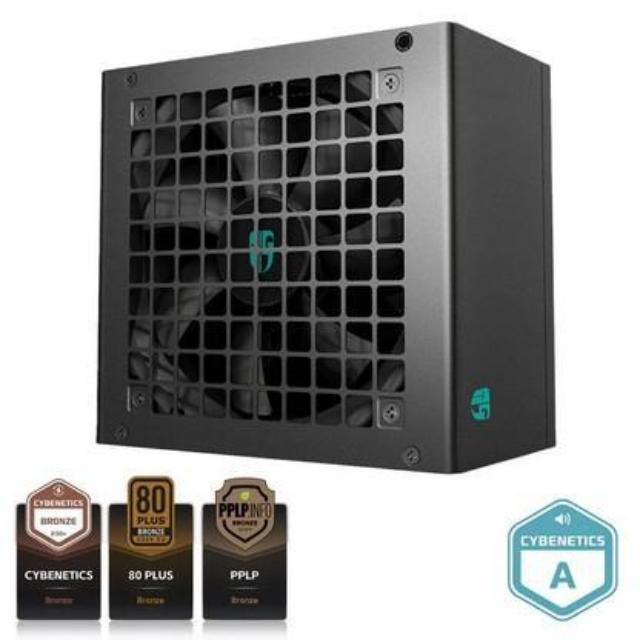PSU: (82, 8, 588, 486)
